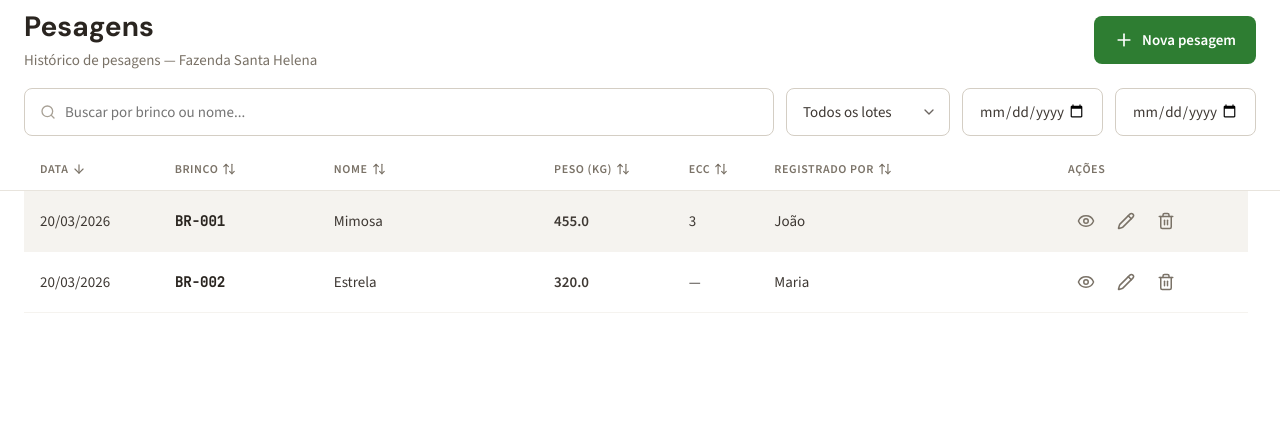
it: WeighingSessionPage › navigates to start phase when clicking Nova pesagem
What coordinates should you click on to do the following:
click the button "Nova pesagem"
I would click on:
 (1175, 40)
Its box is [1094,16,1256,64].
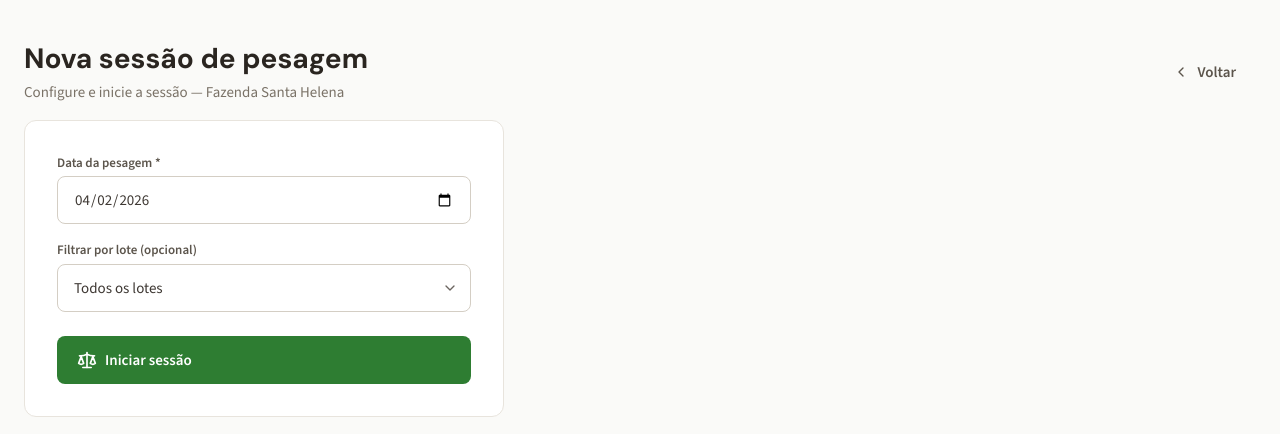
Now the heading "Nova sessão de pesagem" is shown, box [24,41,368,77]
Now the date field labelled "Data da pesagem *" is shown, box [57,176,471,224]
